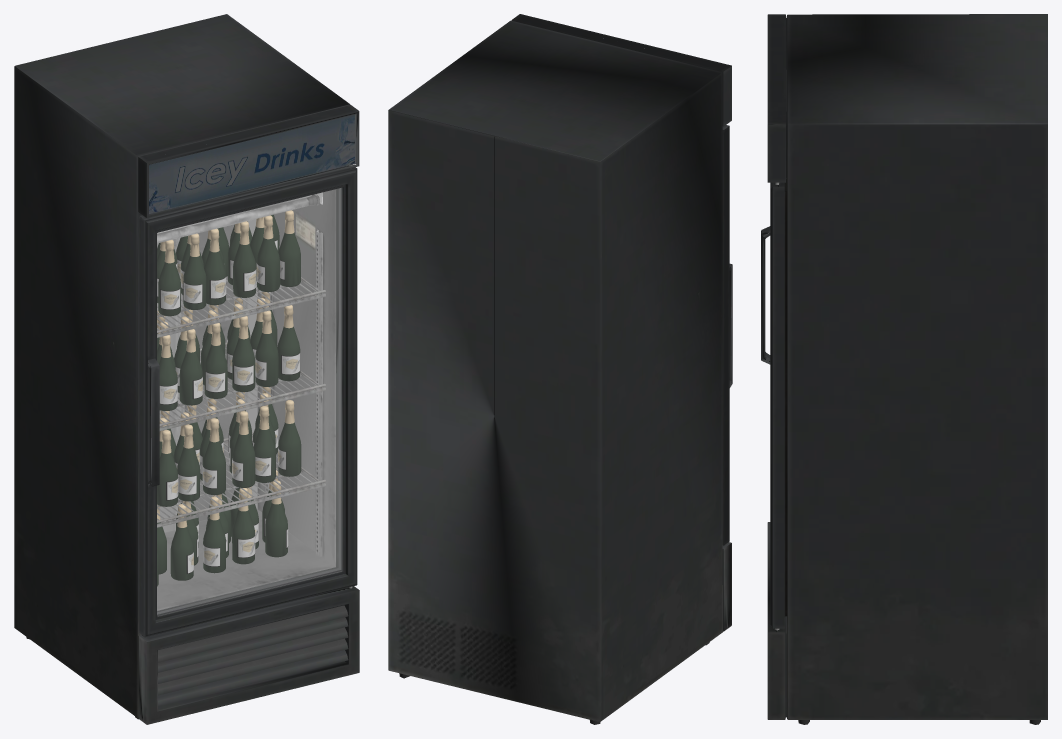
File: fridge.glb
3 renders of one model, left to right at view 1: azimuth 30°, elevation 25°; view 2: azimuth 150°, elevation 25°; view 3: azimuth 270°, elevation 25°, orthographic. The views are drawn at different scales.
Parts seen in each view (by area): view 1: FridgeCase, FridgeGlass, FridgeInterior, ChampagneBottles, FridgeDoor, FridgeDoorInner; view 2: FridgeCase, FridgeDoor; view 3: FridgeCase, FridgeDoor.
Boxes of the visible parts, box(x1,y1,x2,y2) form: FridgeCase: box(14, 14, 359, 724); FridgeGlass: box(157, 188, 340, 614); FridgeInterior: box(149, 114, 356, 610); ChampagneBottles: box(157, 210, 301, 586); FridgeDoor: box(139, 165, 357, 637); FridgeDoorInner: box(157, 187, 342, 615); FridgeCase: box(388, 14, 731, 724); FridgeDoor: box(722, 125, 732, 545); FridgeCase: box(767, 14, 1047, 724); FridgeDoor: box(761, 179, 787, 628).
Size of the model in its own units: 0.8544 by 2.18 by 0.9396.
Materials: 6 (3 with a texture image).
